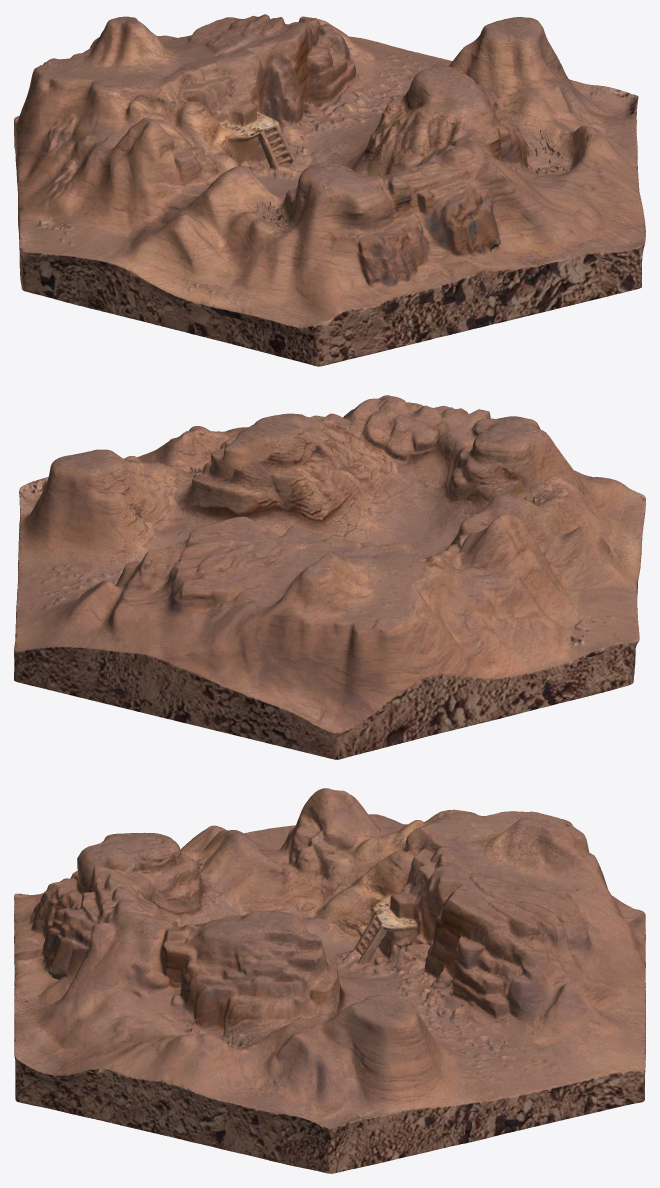
The model's file is brick.glb.
3 renders of one model, top to bottom at view 1: azimuth 30°, elevation 25°; view 2: azimuth 150°, elevation 25°; view 3: azimuth 270°, elevation 25°, orthographic. The views are drawn at different scales.
Bounding box in the file's own units: 1.9 × 0.4355 × 1.63.
Materials: 1 (1 with a texture image).
